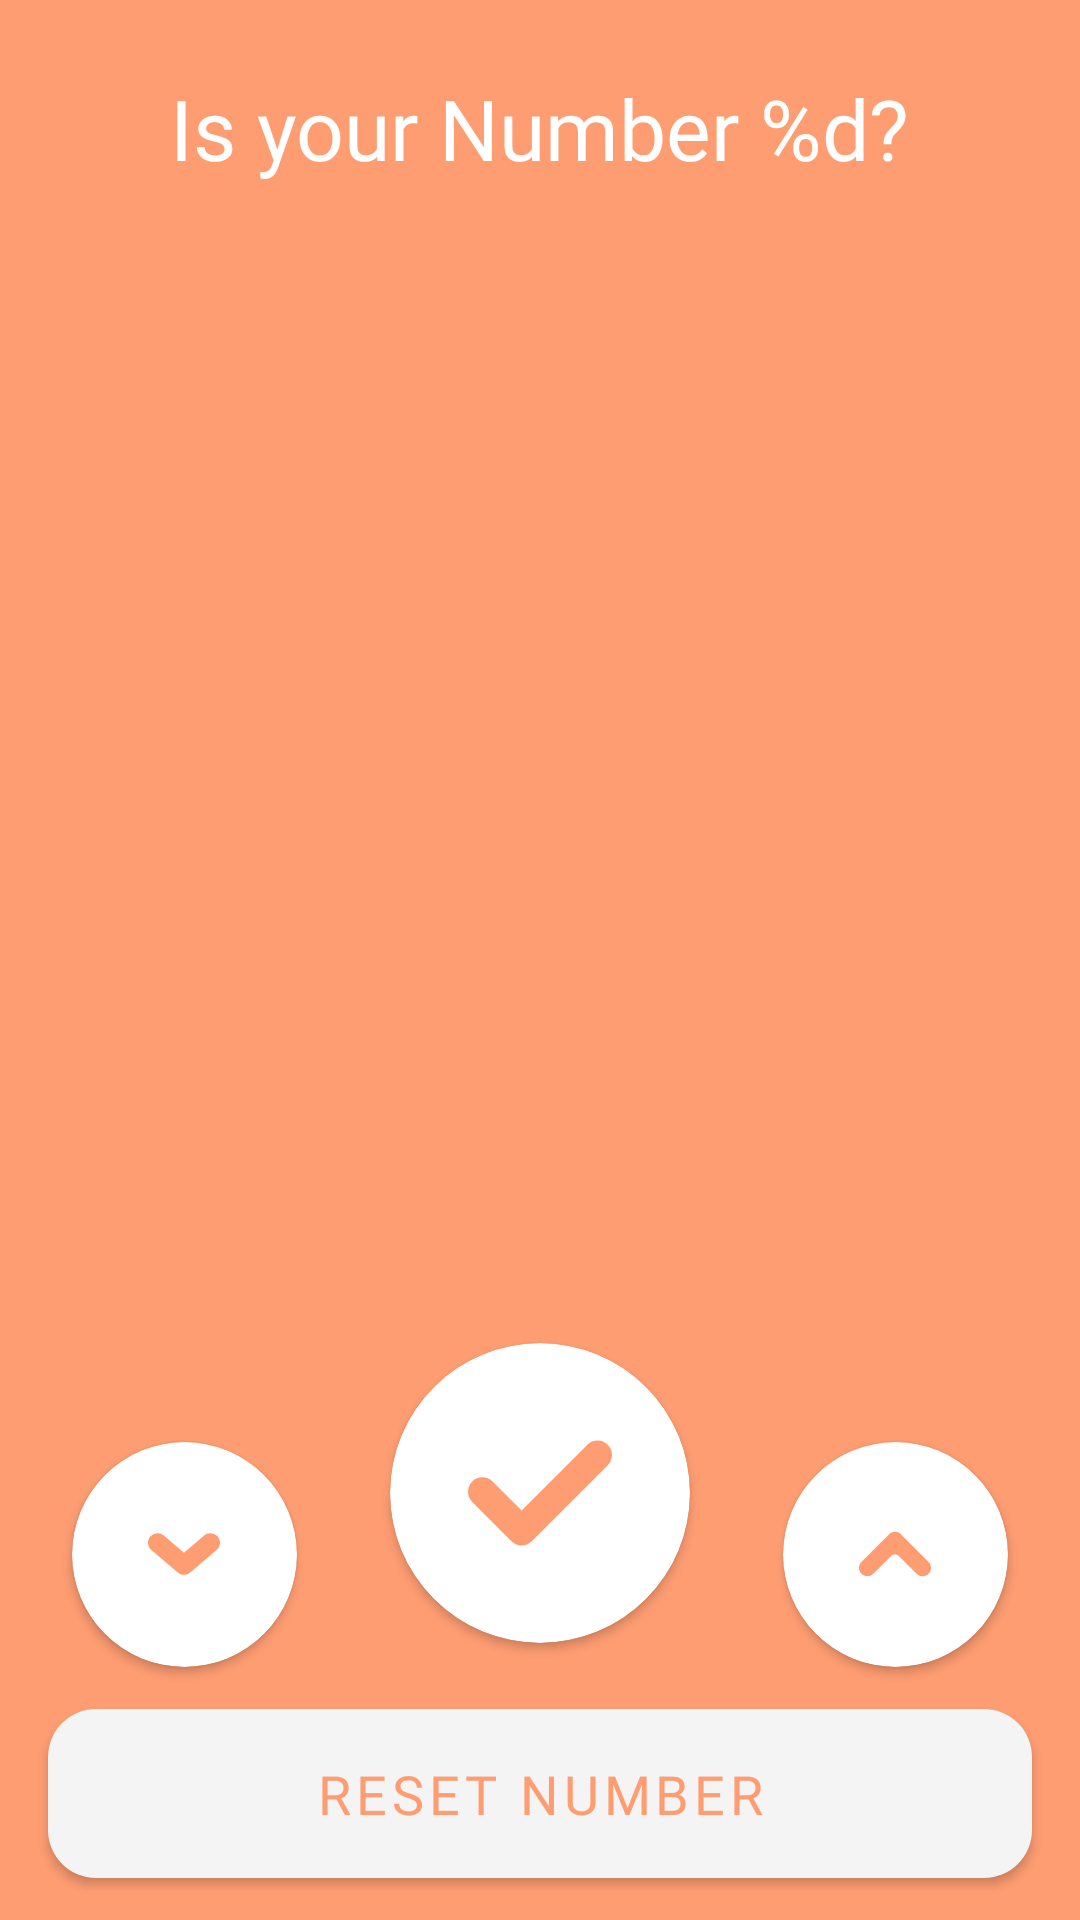

Point at icon controls on the screen. Image size 1080 x 1920, points as point (x, y).
Check: point (540, 1493)
Down: point (184, 1554)
Up: point (895, 1554)
